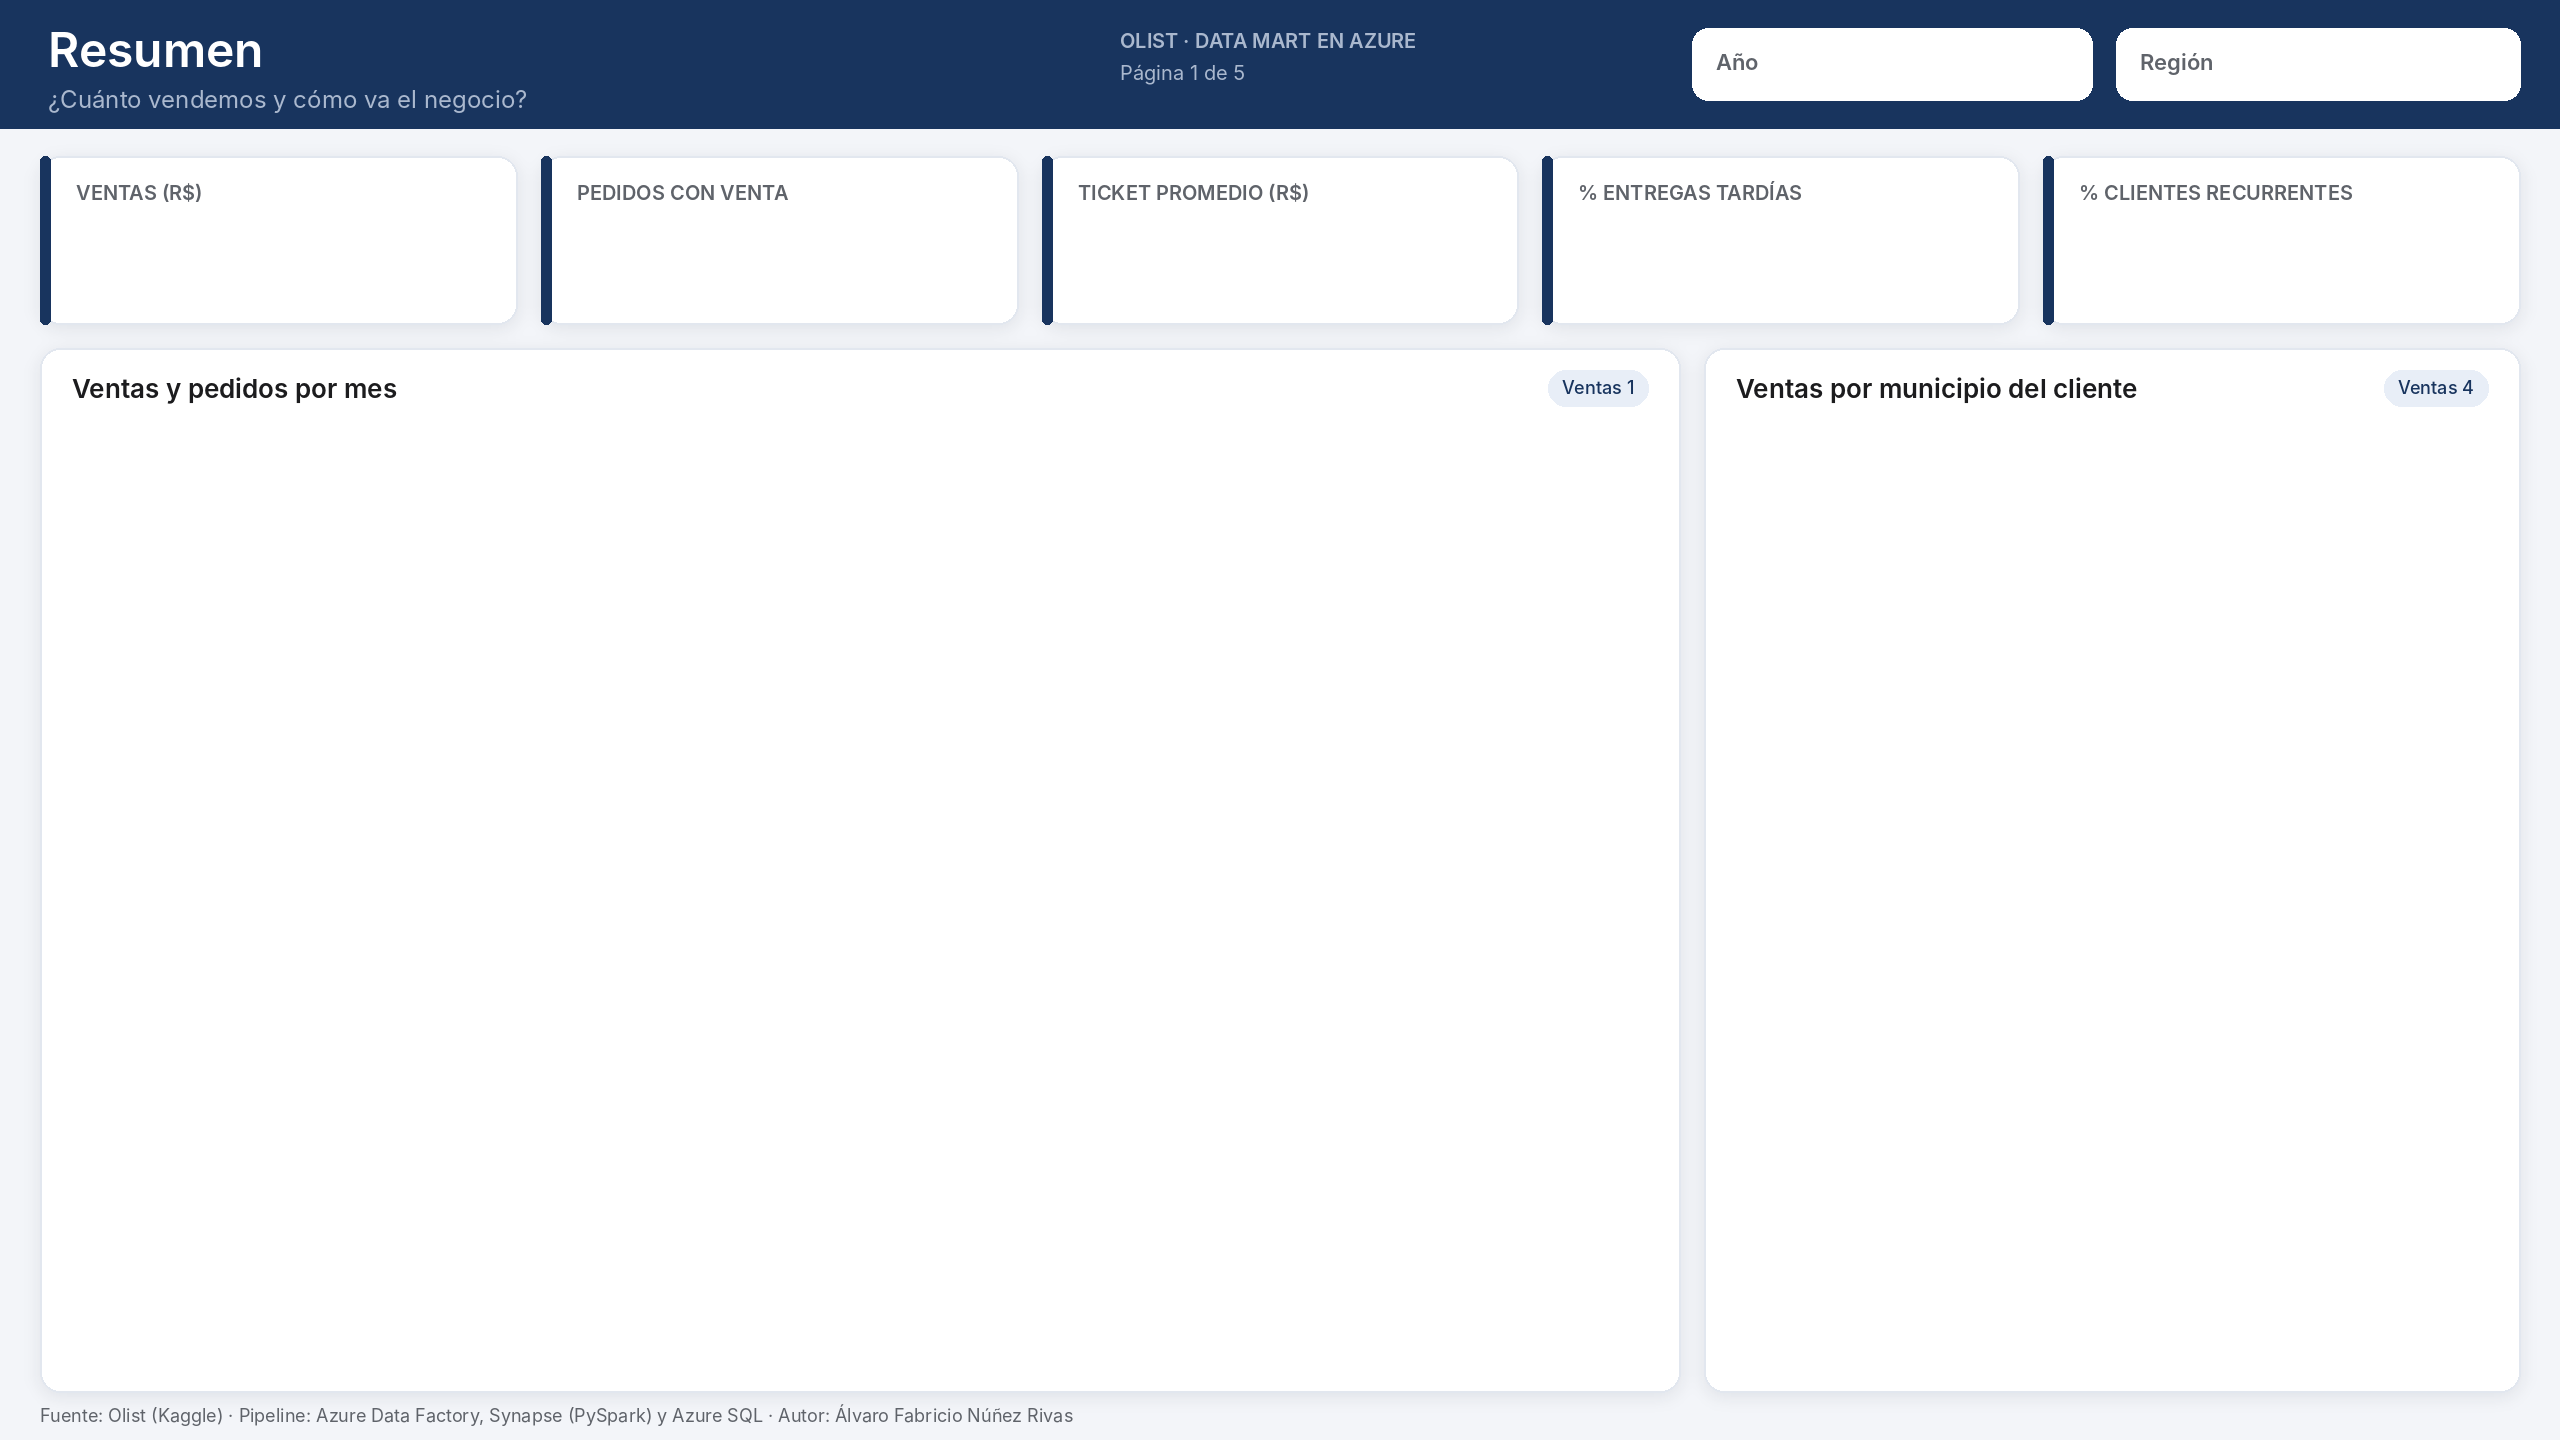

The page's visual inventory and layout, read from the dashboard file:
{"tool":"powerbi","page":{"name":"Resumen","canvas":[1280,720],"ordinal":0},"visuals":[{"type":"slicer","fields":{"Values":["dim_fecha.anio"]},"box":[890,17,150,30],"z":0},{"type":"slicer","fields":{"Values":["dim_ubicacion.region"]},"box":[1112,17,144,30],"z":1},{"type":"card","fields":{"Values":["_Medidas.Ventas"]},"box":[28,100,226,60],"z":2},{"type":"card","fields":{"Values":["_Medidas.Pedidos con venta"]},"box":[278,100,226,60],"z":3},{"type":"card","fields":{"Values":["_Medidas.Ticket promedio"]},"box":[529,100,226,60],"z":4},{"type":"card","fields":{"Values":["_Medidas.% Entregas tardías"]},"box":[779,100,226,60],"z":5},{"type":"card","fields":{"Values":["_Medidas.% Clientes recurrentes"]},"box":[1030,100,226,60],"z":6},{"type":"lineClusteredColumnComboChart","fields":{"Category":["dim_fecha.anio_mes"],"Y":["_Medidas.Ventas"],"Y2":["_Medidas.Pedidos con venta"]},"box":[28,210,804,478],"z":7},{"type":"map","fields":{"Category":["dim_ubicacion.Lugar mapa"],"Size":["_Medidas.Ventas"]},"box":[860,210,392,478],"z":8}]}

Visuals, with their boxes in screenshot pixels (x1, y1, x2, y2), scaled from the page's 1280x720 canvas onto the 2560x1440 screenshot:
slicer - dim_fecha.anio: bbox=[1780, 34, 2080, 94]
slicer - dim_ubicacion.region: bbox=[2224, 34, 2512, 94]
card - _Medidas.Ventas: bbox=[56, 200, 508, 320]
card - _Medidas.Pedidos con venta: bbox=[556, 200, 1008, 320]
card - _Medidas.Ticket promedio: bbox=[1058, 200, 1510, 320]
card - _Medidas.% Entregas tardías: bbox=[1558, 200, 2010, 320]
card - _Medidas.% Clientes recurrentes: bbox=[2060, 200, 2512, 320]
lineClusteredColumnComboChart - dim_fecha.anio_mes x _Medidas.Ventas: bbox=[56, 420, 1664, 1376]
map - dim_ubicacion.Lugar mapa x _Medidas.Ventas: bbox=[1720, 420, 2504, 1376]
